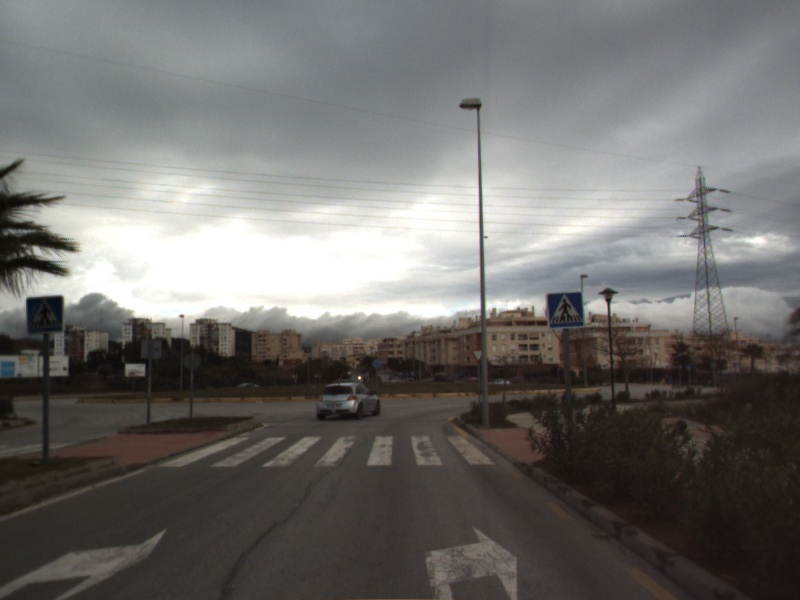RIGHT: (1, 525, 170, 600), (421, 523, 521, 600)
